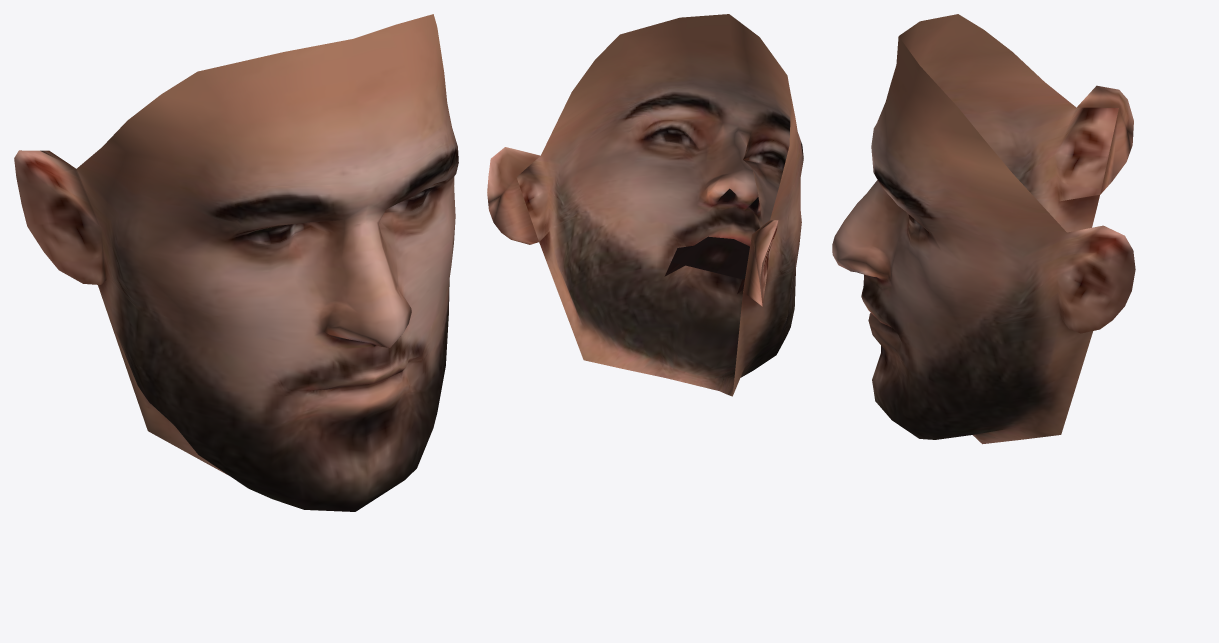
The model's file is hrv-gvardiol.glb.
The picture shows the model from 3 angles, left to right: view 1: azimuth 30°, elevation 25°; view 2: azimuth 150°, elevation 25°; view 3: azimuth 270°, elevation 25°; orthographic projection. The views are drawn at different scales.
Visible parts, largest first — view 1: hrv-gvardiol; view 2: hrv-gvardiol; view 3: hrv-gvardiol.
Boxes of the visible parts, box(x1,y1,x2,y2) form: hrv-gvardiol: box(14, 14, 458, 511); hrv-gvardiol: box(487, 14, 803, 396); hrv-gvardiol: box(832, 14, 1135, 444).
Bounding box in the file's own units: 0.1729 × 0.305 × 0.174.
Materials: 1 (1 with a texture image).
